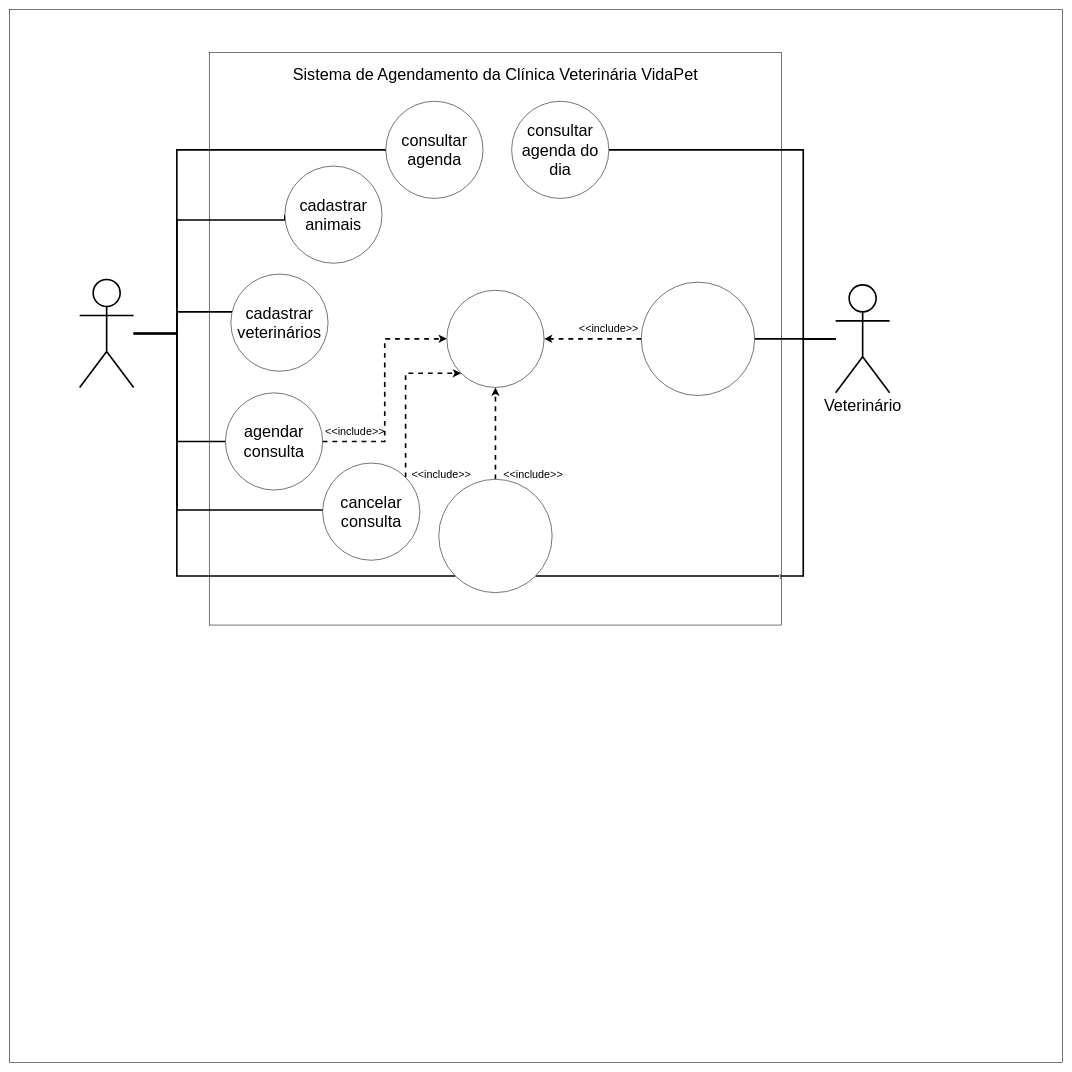
Image size: 1072x1072. Some labels were removed from this diagram. The centre of each missing label's shape, as x and y in pixels:
mostrar aviso: [495,338]
Recepcionista: [106,333]
registrar observação da consulta: [495,536]
registrar realização da consulta: [698,339]
